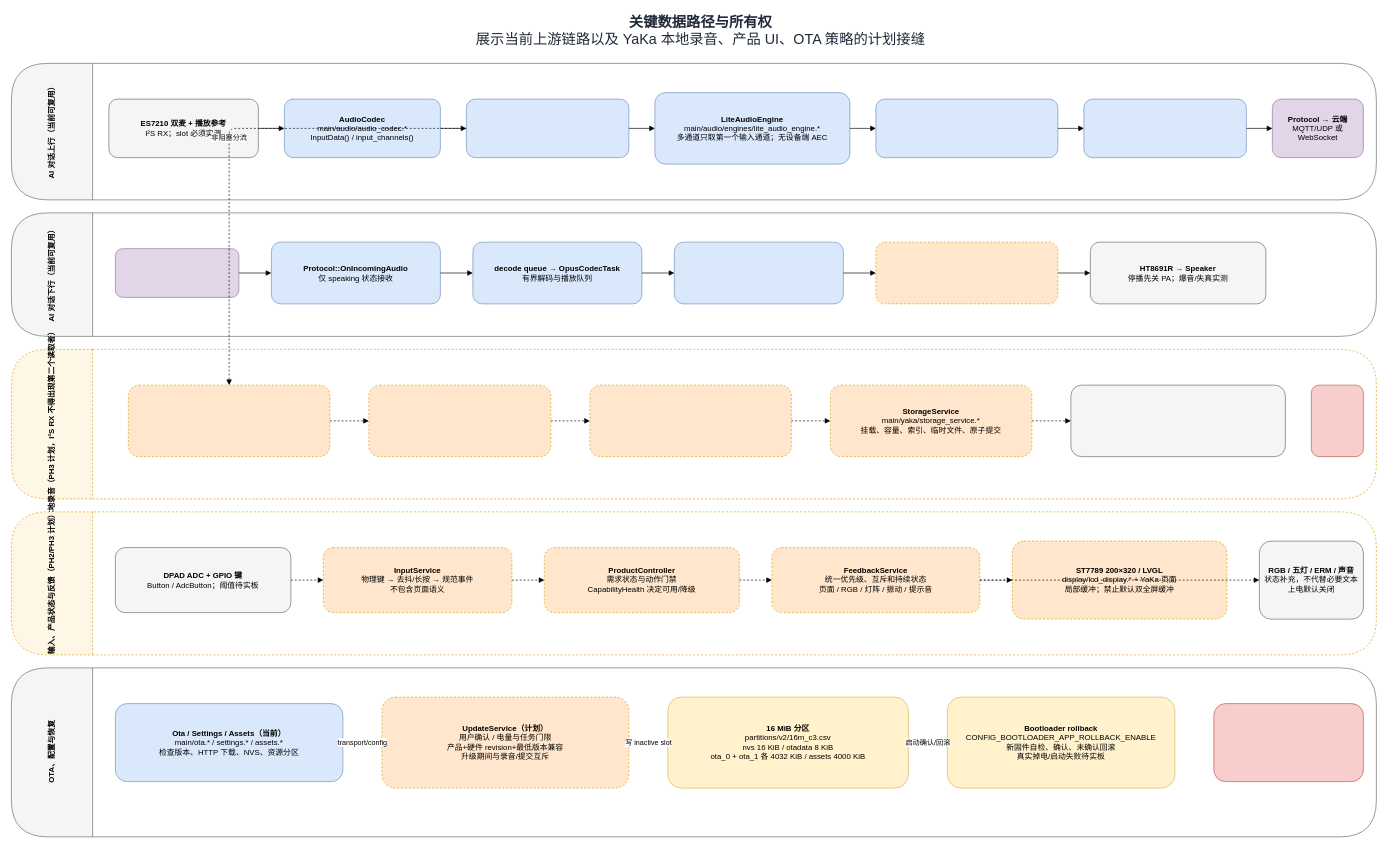
This 1388x848 diagram has some shape labels left out. The shapes that lost their labels are listed below. From the top down, each one's centre as x and y in pixels, then its label:
the point at 547,128: AudioInputTask 10 ms PCM；唯一采集所有者 main/audio/audio_service.cc
the point at 966,128: OpusCodecTask audio_encode_queue_ → audio_send_queue_ 60 ms Opus / FixedQueue
the point at 1164,128: Application MAIN_EVENT_SEND_AUDIO PopPacketFromSendQueue()
the point at 177,272: 云端 TTS Opus
the point at 758,272: AudioOutputTask 播放进度 / drained 回调
the point at 966,272: AudioCodec::OutputData 计划：ES8311 + PA_EN 时序
the point at 229,420: CaptureAdapter 计划：main/yaka/audio_capture_adapter.* 在唯一采集路径非阻塞分流；固定块池
the point at 459,420: 有界 RecorderQueue 满载：计数 + 明确停止/降级 禁止阻塞 I²S DMA
the point at 690,420: RecorderService / recorder_task main/yaka/recorder_service.* 容器化、checkpoint、错误状态
the point at 1177,420: TF / FatFS / SDSPI GPIO15/18/19/20；无 card-detect .part → fsync → rename → 文件索引
the point at 1337,420: MASTER_SW 硬切 启动恢复/半文件识别 随机掉电必须实板验证
the point at 1288,742: 发布门禁 签名/校验、包哈希、Git SHA、SDK、分区、硬件版本 坏包/断网/低电/硬切/回滚证据
